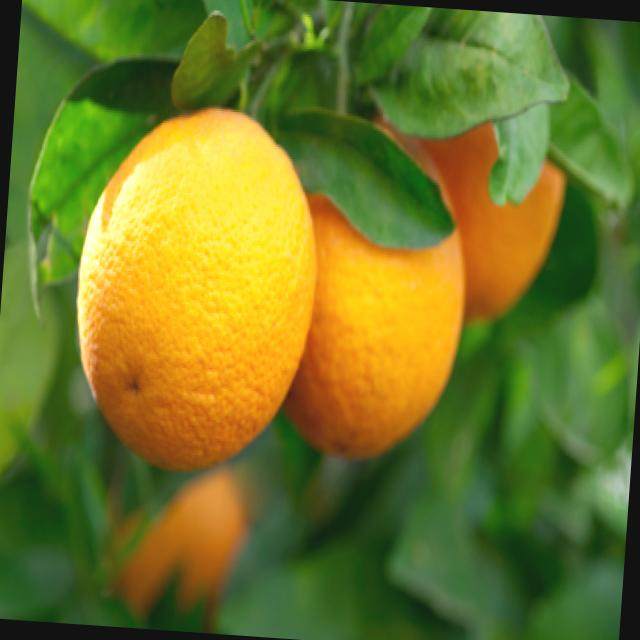orange: (233, 104, 500, 490), (55, 110, 334, 478), (338, 4, 572, 338)
